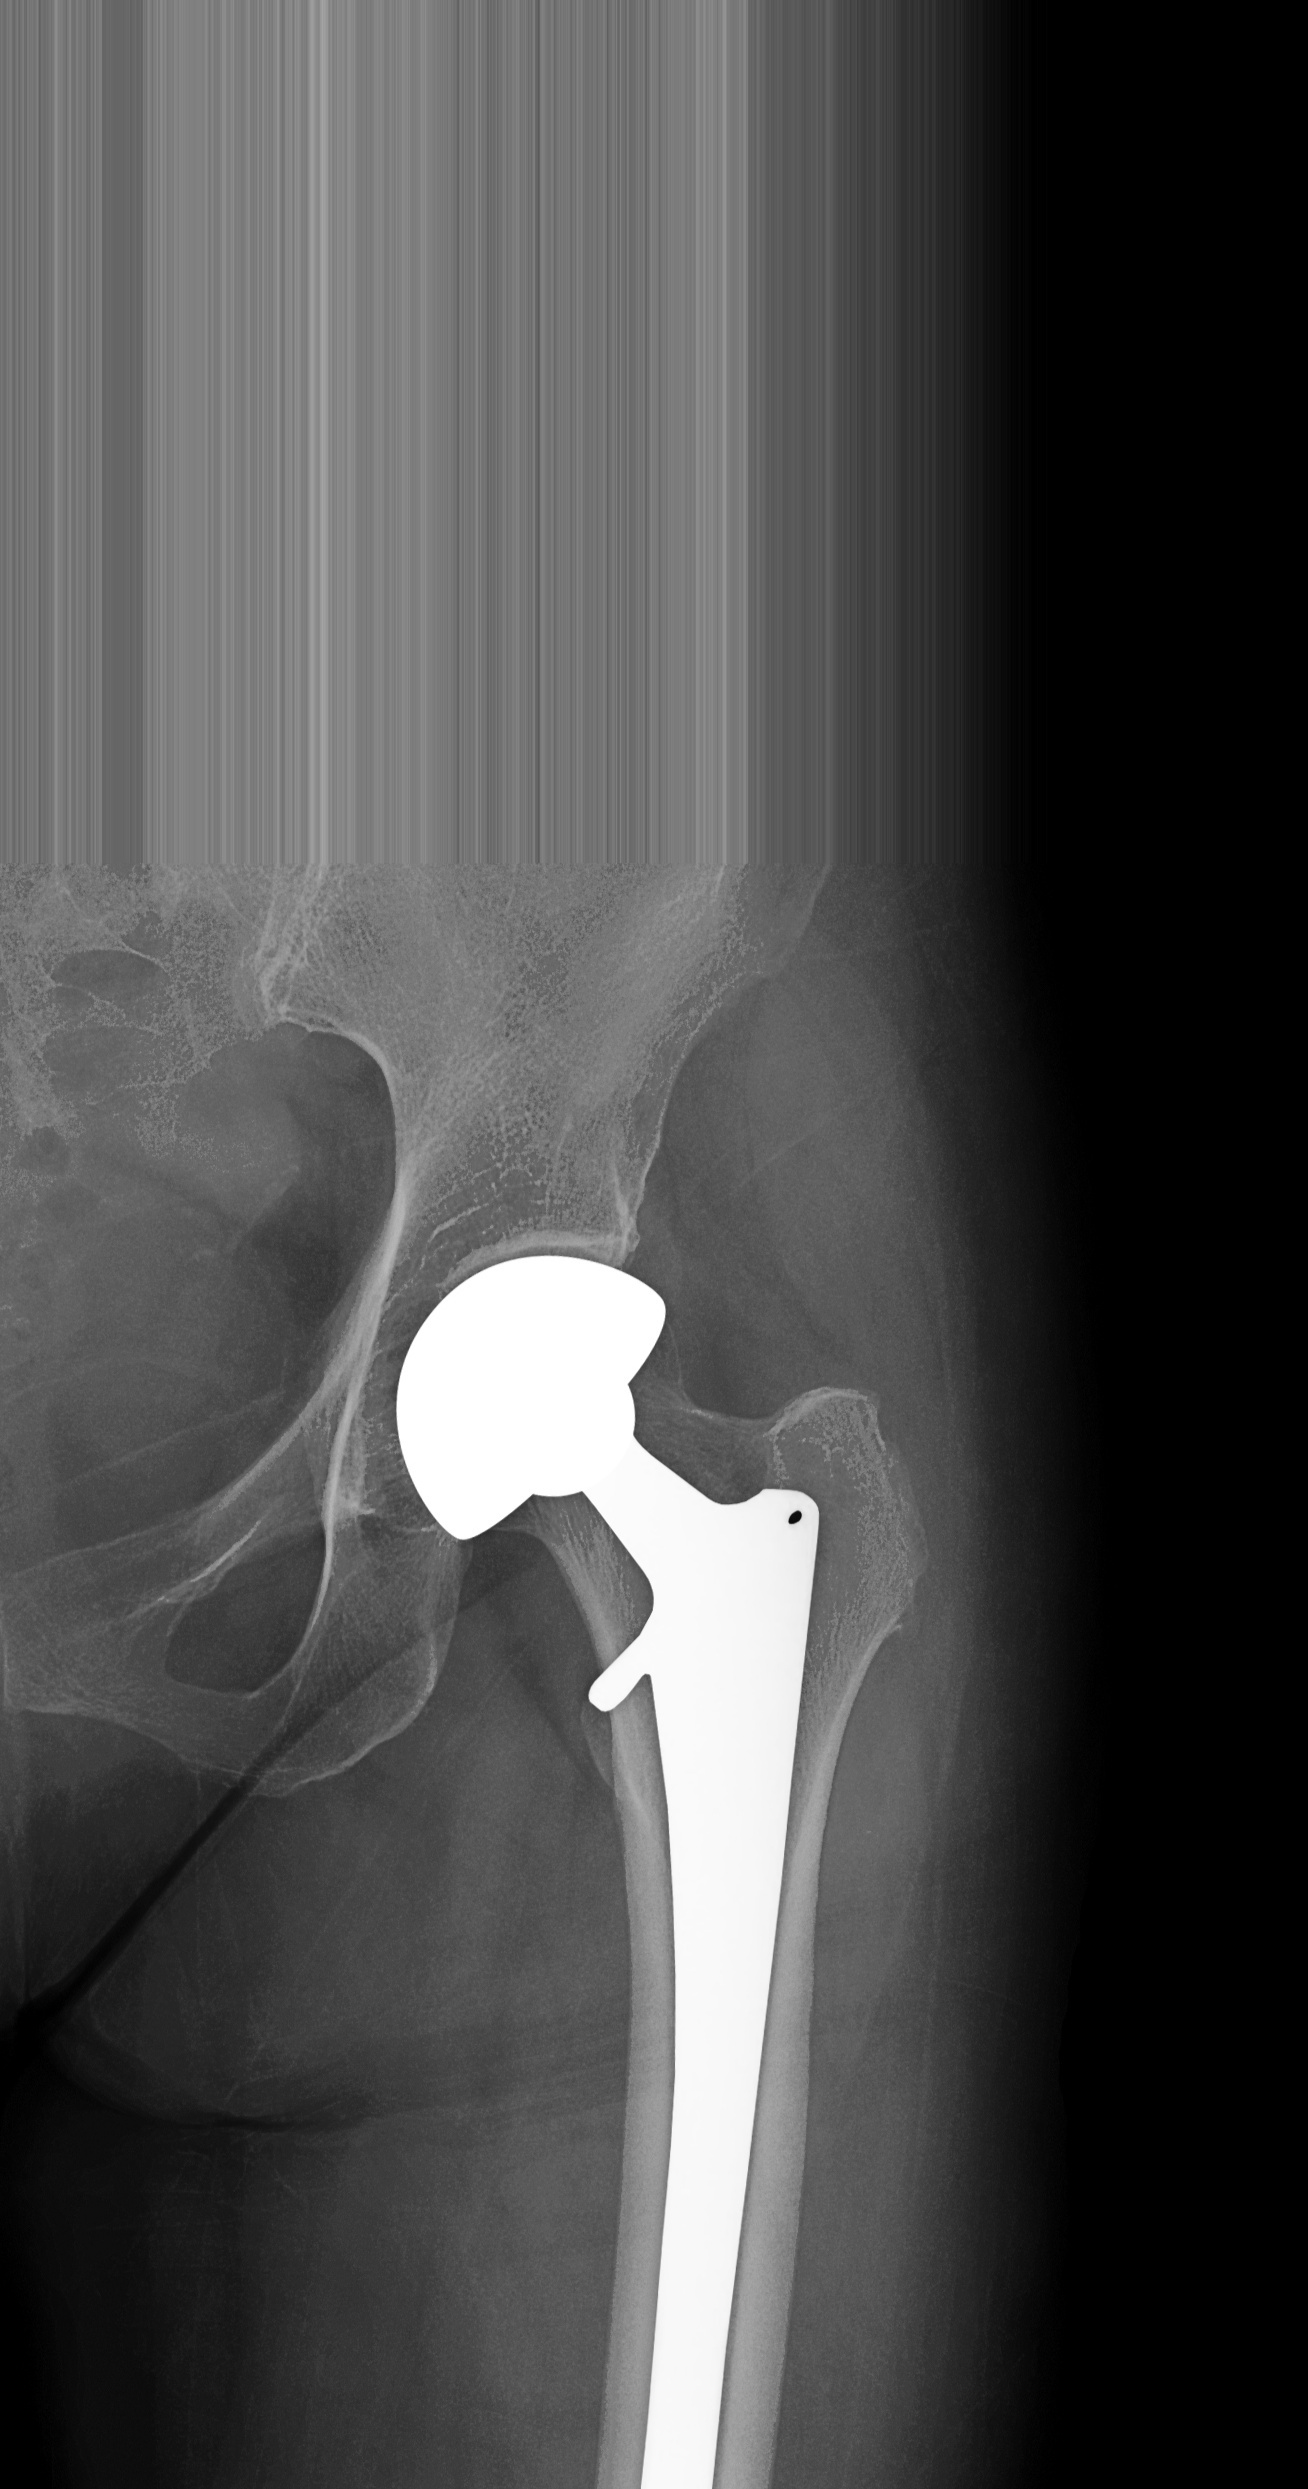Hip - Bias - Zimmer: (350, 1231, 884, 2489)
